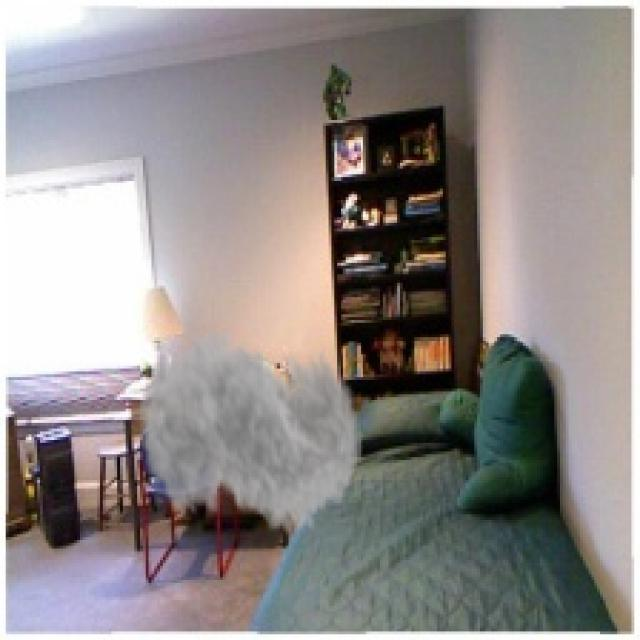Smoke: (137, 309, 363, 560)
